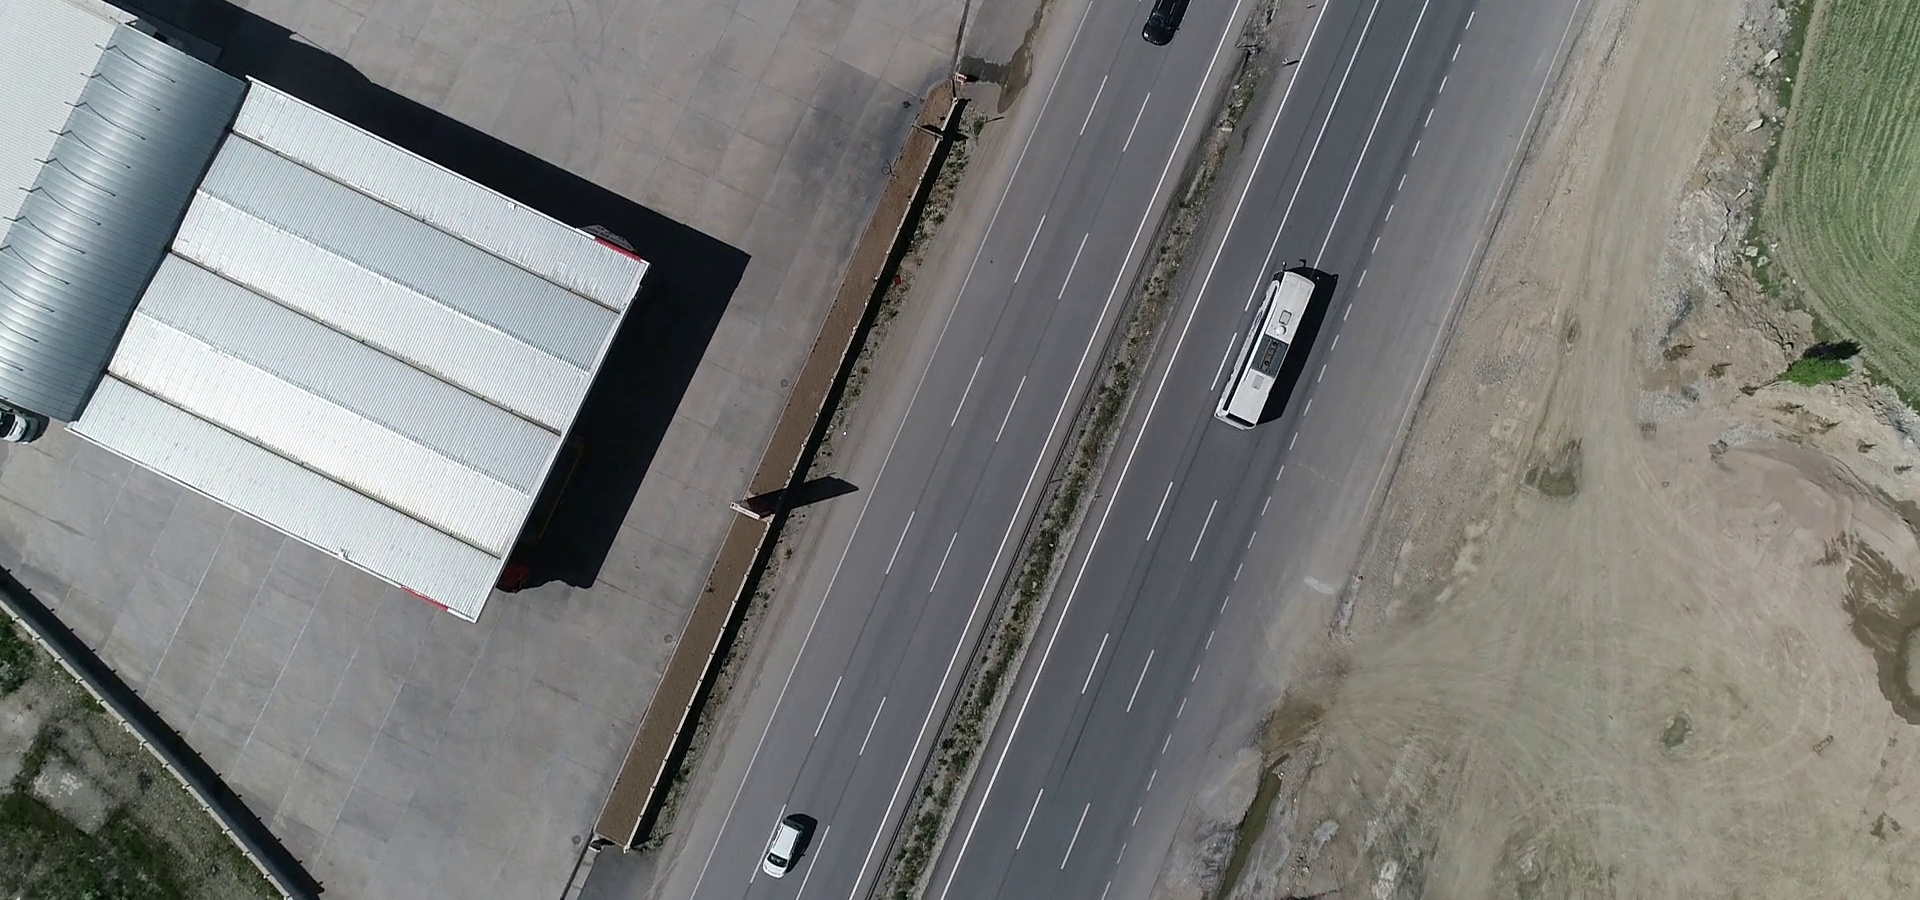arac: (1210, 263, 1332, 435), (746, 813, 816, 883), (1134, 1, 1185, 51)
